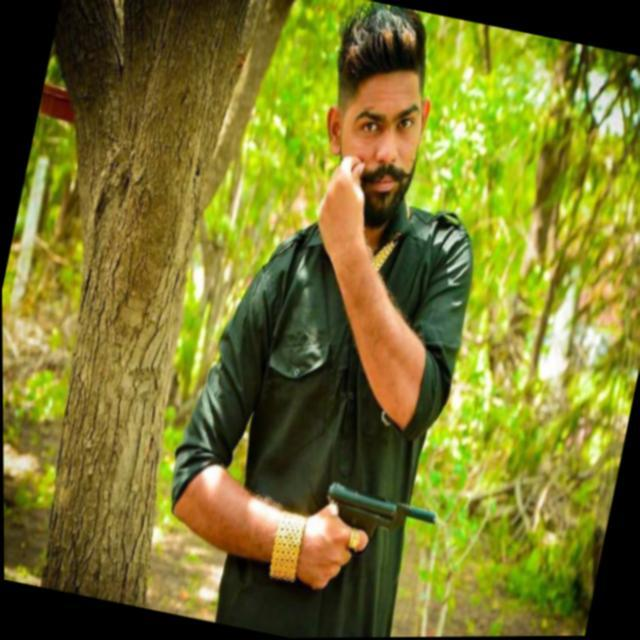weapon: (298, 474, 448, 612)
